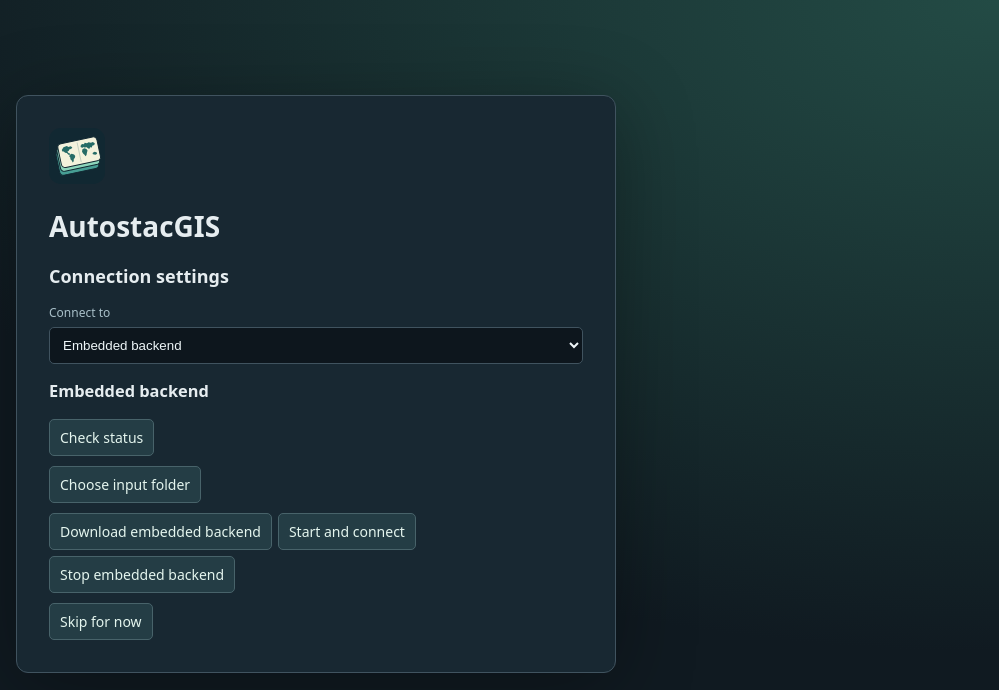
Test case: shows startup status and a live bounded installation tail in Sonner
What coordinates should you click on to do the following:
click the button "Check status"
I would click on:
 (102, 437)
Its box is x1=49 y1=419 x2=154 y2=456.
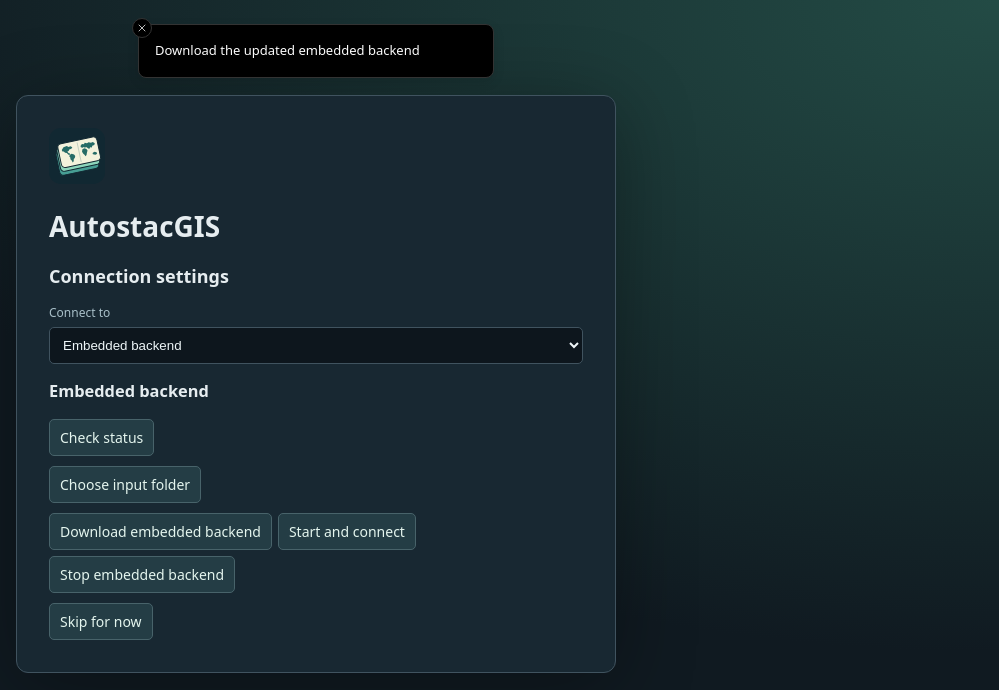
Expected: the text "Download the updated embedded backend" is not shown
Expected: the list item "Download the updated embedded backend" is shown, x1=138 y1=24 x2=494 y2=78
What coordinates should you click on to do the following:
click the button "Download embedded backend"
I would click on:
 (160, 531)
Its box is x1=49 y1=513 x2=272 y2=550.
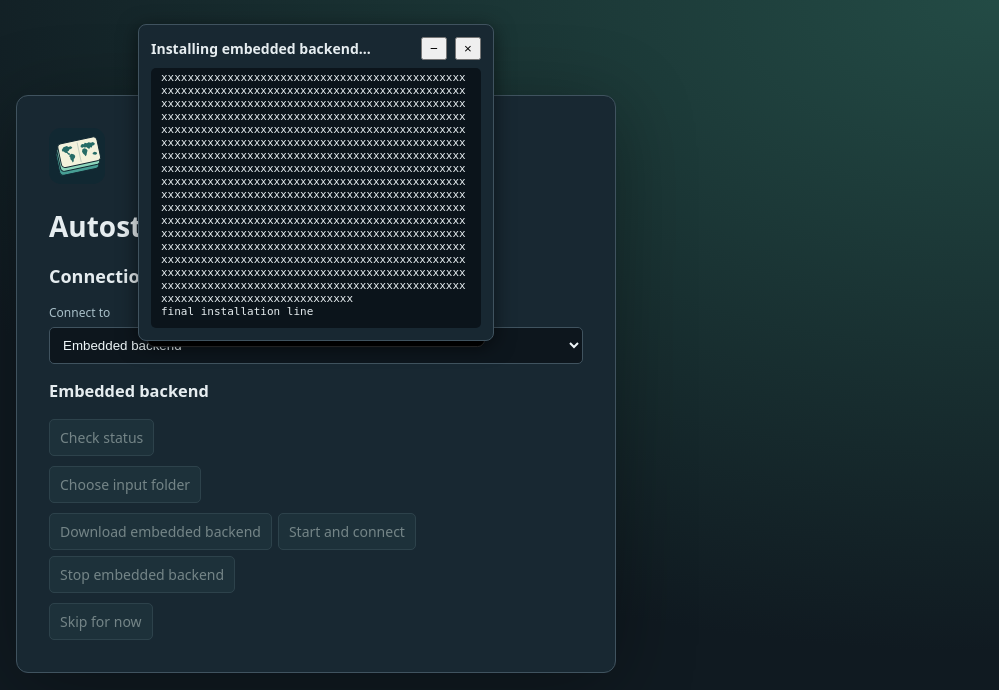
Expected: the list item named "Installation log" is shown, x1=138 y1=24 x2=494 y2=341
What coordinates should you click on to do the following:
click the button named "Collapse log"
I would click on:
 (434, 48)
Its box is x1=421 y1=37 x2=447 y2=60.
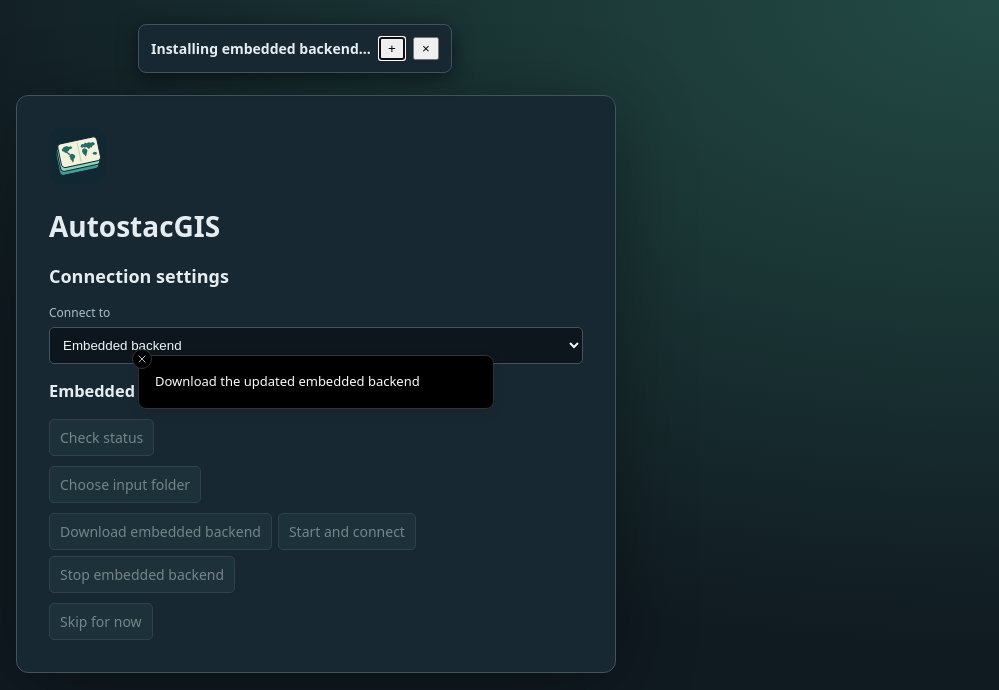
What coordinates should you click on to do the following:
click the button named "Expand log"
I would click on:
 (392, 48)
Its box is x1=379 y1=37 x2=405 y2=60.
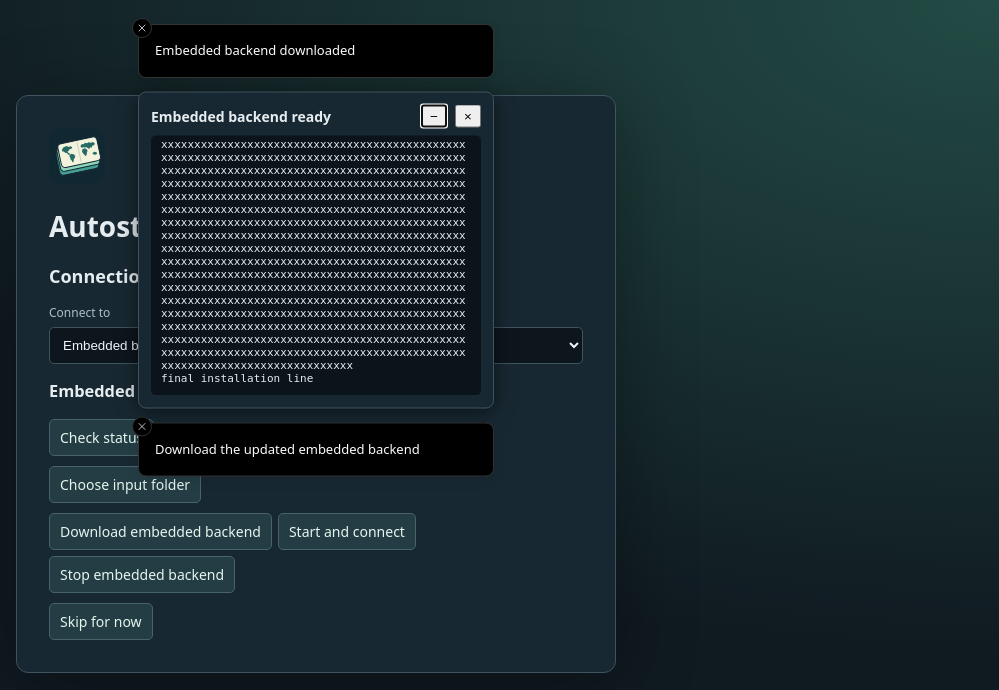
Expected: the text "Embedded backend ready" is shown, x1=151 y1=106 x2=331 y2=126
